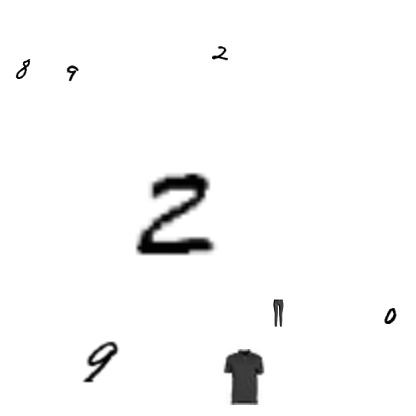0: (379, 305, 401, 327)
2: (117, 158, 229, 270), (209, 43, 231, 65)
8: (9, 55, 37, 83)
9: (71, 332, 127, 388), (61, 60, 83, 82)
T-shirt/top: (216, 349, 272, 405)
Trouser: (264, 299, 292, 327)
